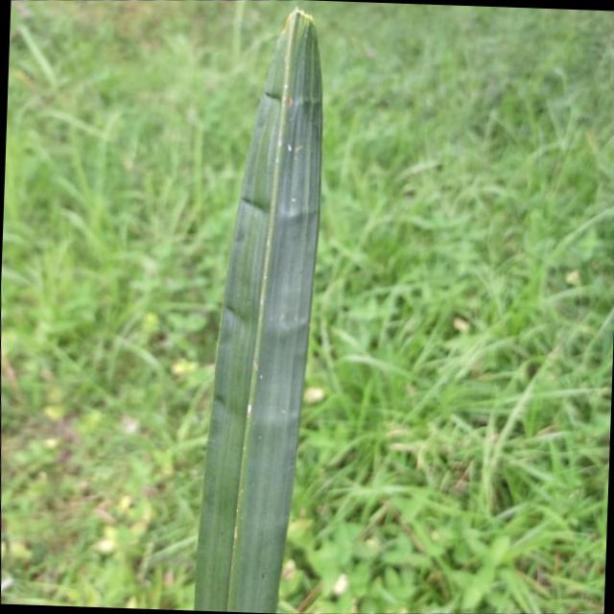Boron: (194, 10, 324, 610)
